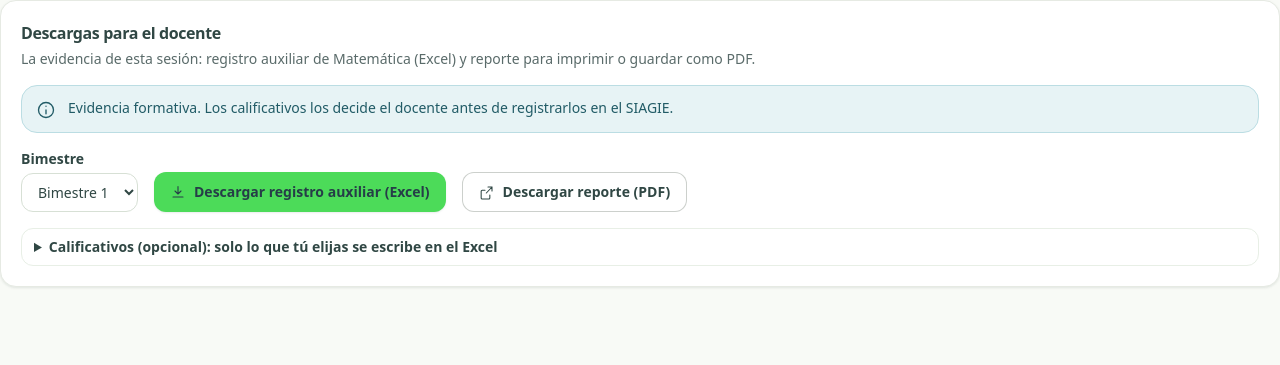
Test: RegistroAuxiliar › shows an error when the file cannot be generated, and renders nothing without students
The width and height of the screenshot is (1280, 365).
Click the button "Descargar registro auxiliar (Excel)".
click(300, 192)  # box [154, 172, 446, 212]
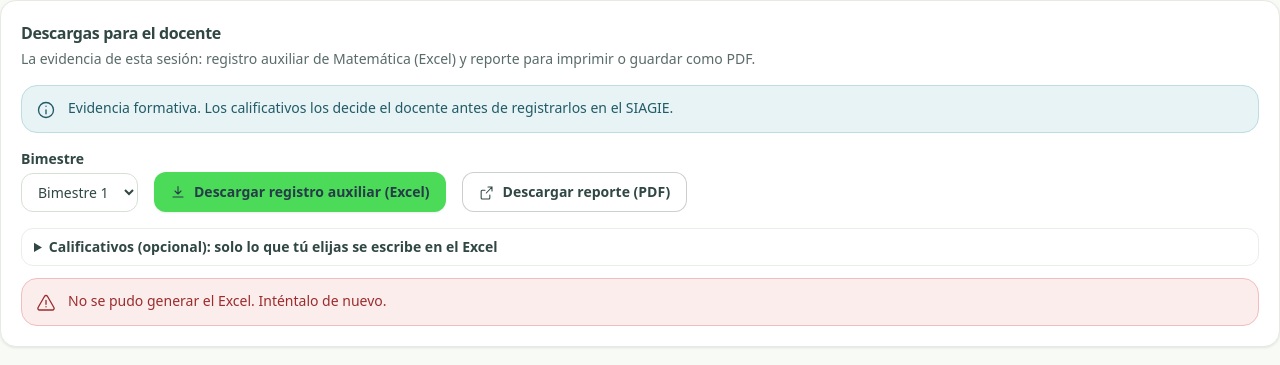
Now the text "No se pudo generar el Excel. Inténtalo de nuevo." is shown, box [68, 291, 386, 310]
